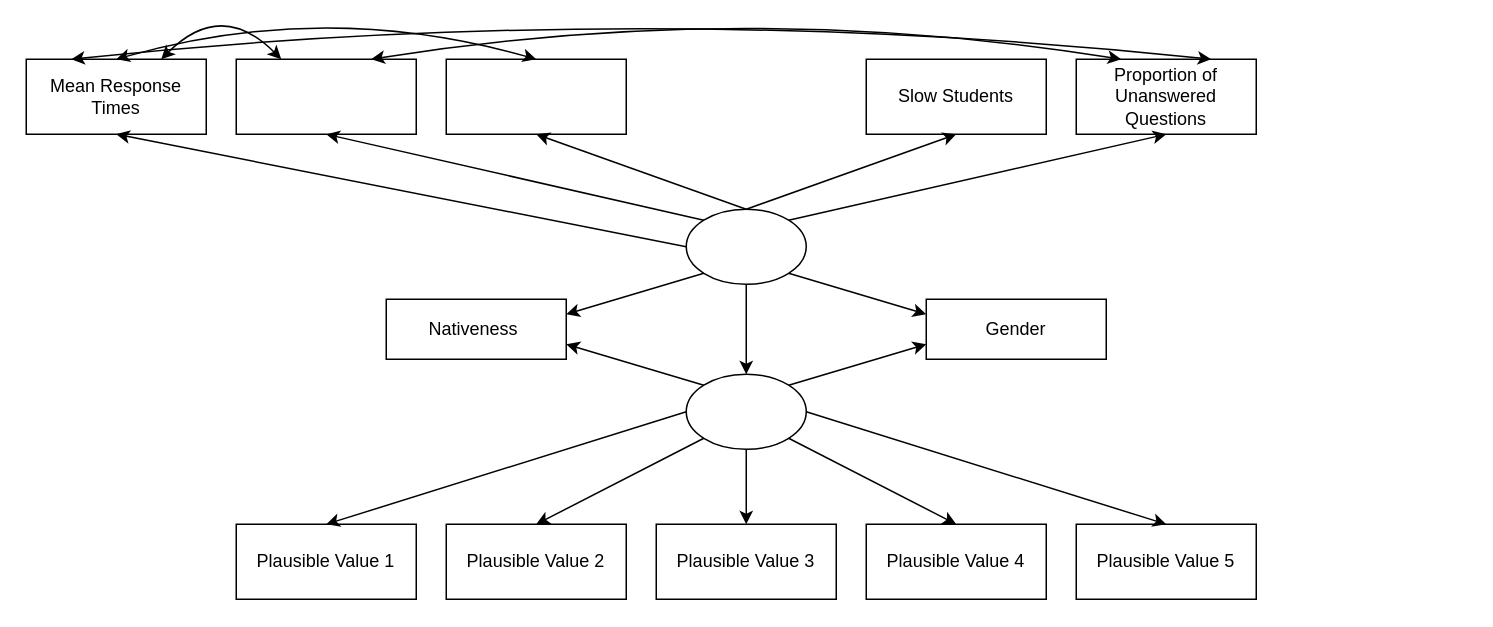
This 1493x627 diagram has some shape labels left out. The centre of each missing label's shape, as x and y in pixels:
"Ability" belongs at point 745,411.
"Motivation" belongs at point 745,246.
"Proportion of Fast Responses" belongs at point 325,96.
"Proportion of Slow Responses" belongs at point 535,96.
